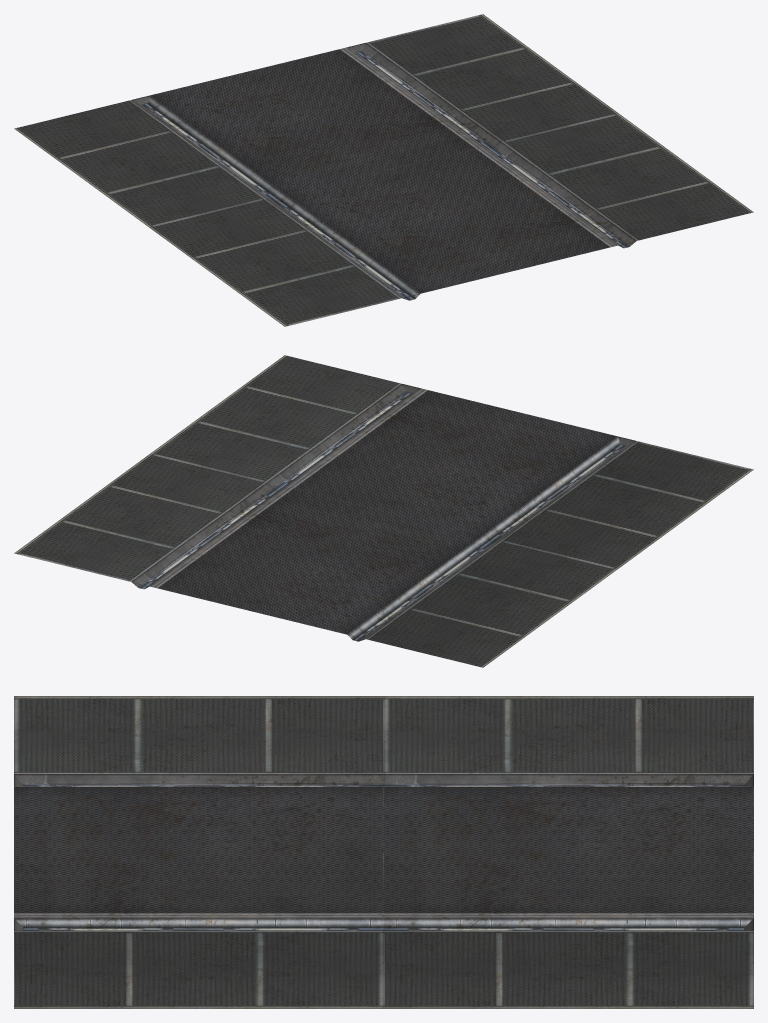
The model's file is Floor_B_5mts_00.fbx.
The picture shows the model from 3 angles, top to bottom: view 1: azimuth 30°, elevation 25°; view 2: azimuth 150°, elevation 25°; view 3: azimuth 270°, elevation 25°; orthographic projection. The views are drawn at different scales.
Visible parts, largest first — view 1: Floor_B_5mts_00; view 2: Floor_B_5mts_00; view 3: Floor_B_5mts_00.
Boxes of the visible parts, box(x1,y1,x2,y2) form: Floor_B_5mts_00: box(14, 14, 753, 326); Floor_B_5mts_00: box(14, 355, 753, 667); Floor_B_5mts_00: box(14, 696, 753, 1008).
Bounding box in the file's own units: 500 × 4.45 × 500.
1 material, 1 textured.
